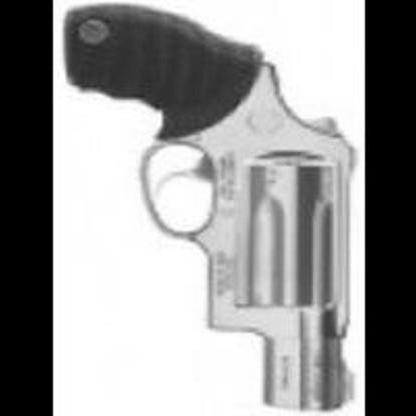weapon: (56, 3, 359, 414)
